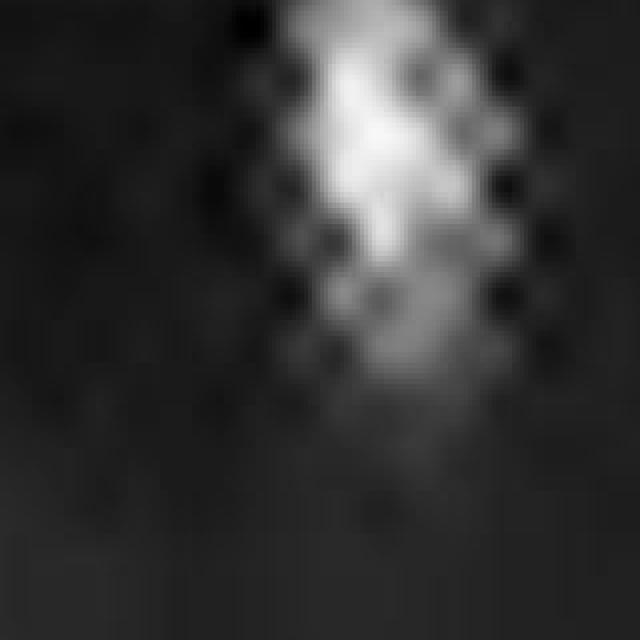person: (217, 1, 549, 406)
